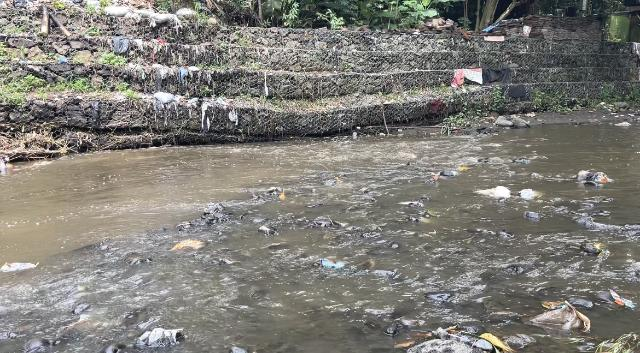Sampah Anorganik: (531, 301, 592, 335), (57, 312, 111, 342), (572, 168, 614, 190), (608, 289, 636, 311), (2, 258, 37, 274), (320, 256, 353, 271), (480, 189, 508, 199), (519, 189, 542, 200), (398, 202, 422, 207), (456, 167, 471, 172)
Sampah Organik: (387, 322, 523, 353), (168, 239, 207, 254), (415, 209, 441, 226), (275, 192, 290, 200), (171, 221, 191, 227), (334, 177, 344, 184), (432, 173, 439, 180)
